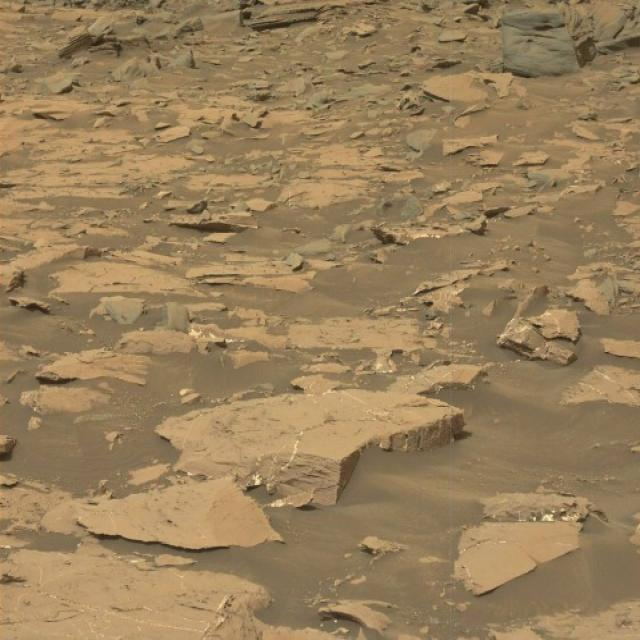rock: (500, 3, 592, 74)
